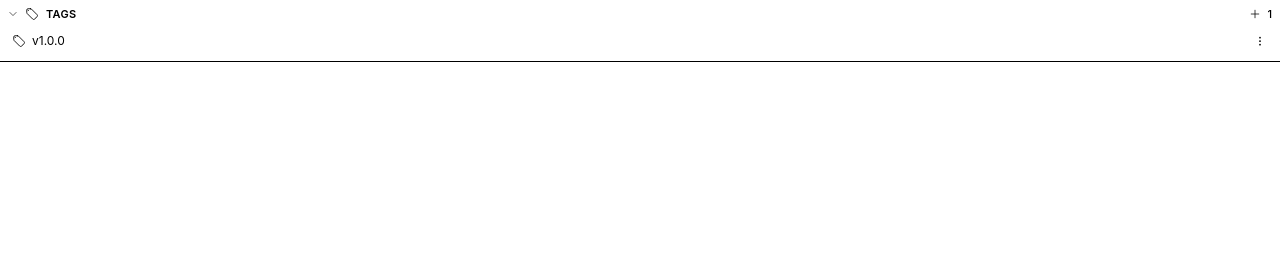
TagsSection › selects commit and opens tag context menu
This screenshot has width=1280, height=275.
Click the button "v1.0.0" at coordinates (48, 40), box [32,32,1246,48]
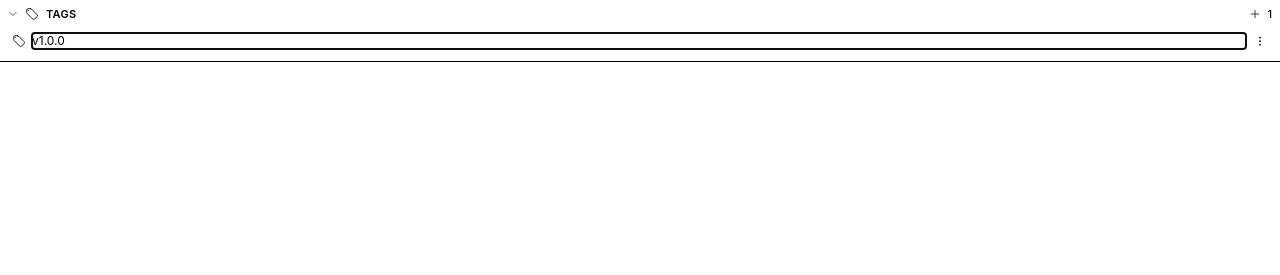
Right-click the button "v1.0.0" at coordinates (48, 40), box [32,32,1246,48]
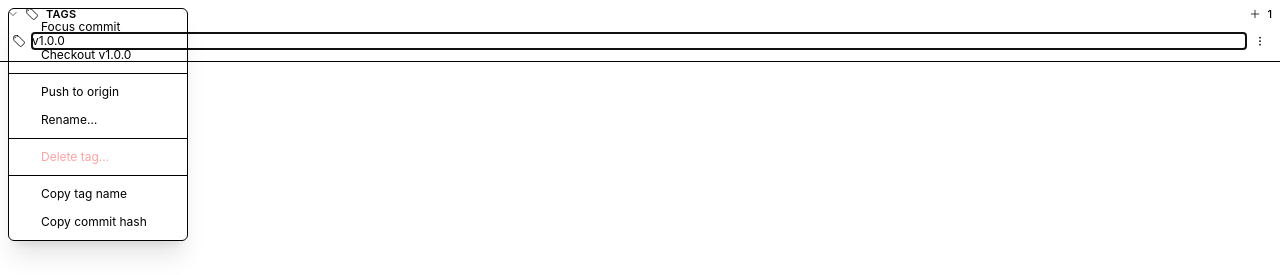
Expected: the menu is shown, [8,8,188,241]
